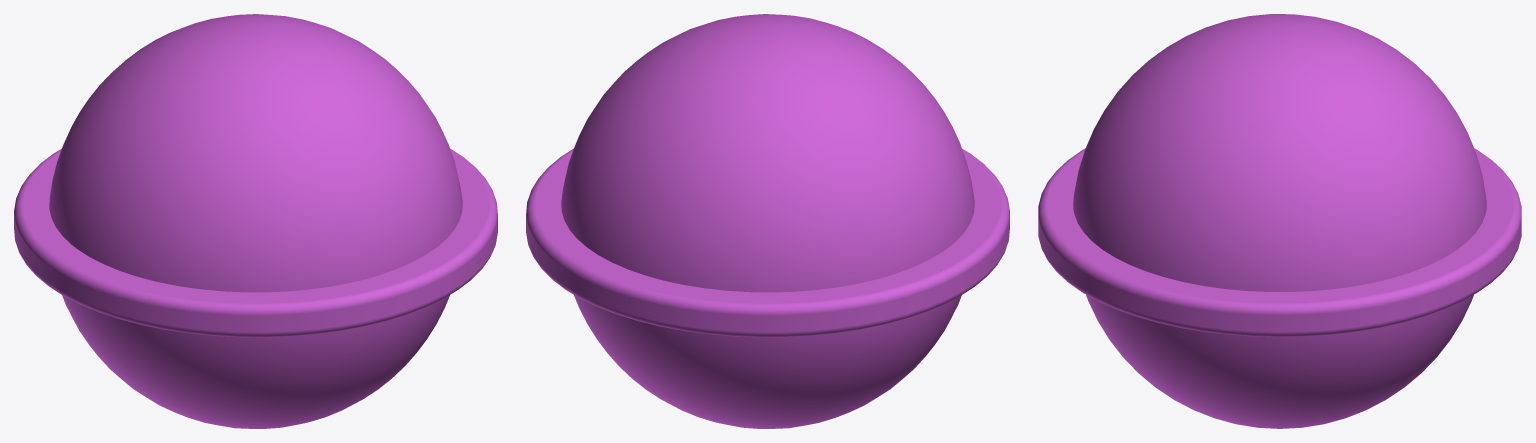
Rendered from candy.glb.
3 renders of one model, left to right at view 1: azimuth 30°, elevation 25°; view 2: azimuth 150°, elevation 25°; view 3: azimuth 270°, elevation 25°, orthographic.
Visible parts, largest first — view 1: mesh0_meshnode_0, mesh6_meshnode_6, mesh1_meshnode_1, mesh3_meshnode_3, mesh2_meshnode_2, mesh4_meshnode_4; view 2: mesh0_meshnode_0, mesh6_meshnode_6, mesh1_meshnode_1, mesh3_meshnode_3, mesh2_meshnode_2, mesh4_meshnode_4; view 3: mesh0_meshnode_0, mesh6_meshnode_6, mesh1_meshnode_1, mesh3_meshnode_3, mesh2_meshnode_2, mesh4_meshnode_4.
Boxes of the visible parts, x1,y1,x2,y2 form: mesh0_meshnode_0: (49, 14, 462, 292); mesh6_meshnode_6: (62, 295, 449, 428); mesh1_meshnode_1: (23, 152, 488, 303); mesh3_meshnode_3: (14, 213, 497, 331); mesh2_meshnode_2: (14, 148, 497, 315); mesh4_meshnode_4: (15, 234, 497, 337); mesh0_meshnode_0: (561, 14, 974, 292); mesh6_meshnode_6: (574, 270, 961, 428); mesh1_meshnode_1: (535, 151, 1000, 303); mesh3_meshnode_3: (526, 213, 1009, 331); mesh2_meshnode_2: (526, 148, 1009, 315); mesh4_meshnode_4: (526, 234, 1008, 337); mesh0_meshnode_0: (1073, 14, 1486, 291); mesh6_meshnode_6: (1086, 295, 1473, 428); mesh1_meshnode_1: (1047, 151, 1512, 303); mesh3_meshnode_3: (1038, 219, 1521, 331); mesh2_meshnode_2: (1038, 148, 1521, 315); mesh4_meshnode_4: (1038, 236, 1521, 336).
Size of the model in its own units: 0.053 by 0.0455 by 0.0529.
